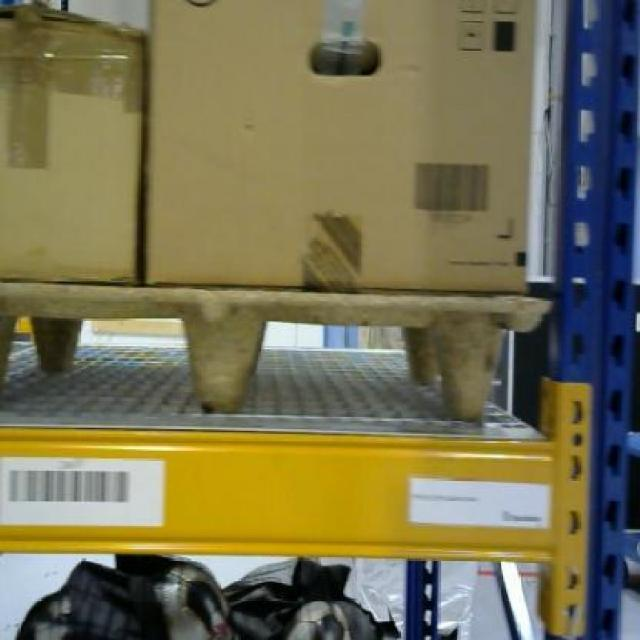box: (156, 0, 533, 289), (0, 17, 142, 286)
